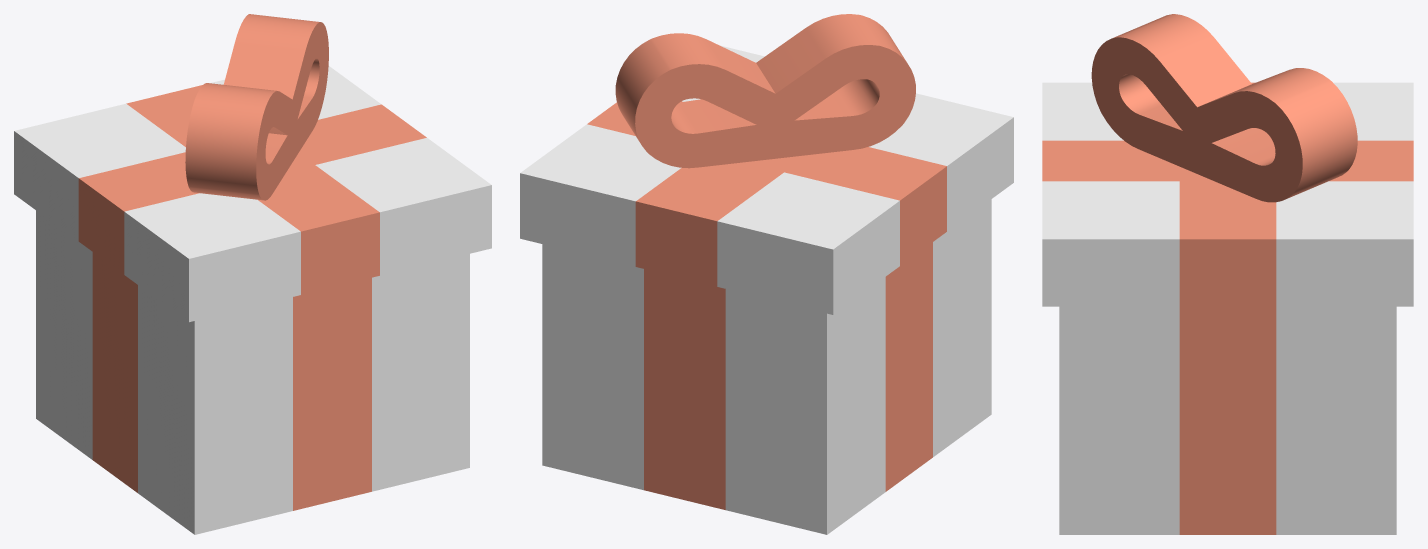
The model's file is gift.glb.
The picture shows the model from 3 angles, left to right: view 1: azimuth 30°, elevation 25°; view 2: azimuth 150°, elevation 25°; view 3: azimuth 270°, elevation 25°; orthographic projection. The views are drawn at different scales.
Visible parts, largest first — view 1: present, lid; view 2: present, lid; view 3: lid, present.
Boxes of the visible parts, bbox=[...] form: present: bbox=[36, 210, 469, 534]; lid: bbox=[14, 14, 491, 322]; present: bbox=[542, 199, 991, 534]; lid: bbox=[520, 14, 1013, 314]; lid: bbox=[1042, 14, 1413, 306]; present: bbox=[1059, 306, 1396, 534].
Bounding box in the file's own units: 0.3727 × 0.4535 × 0.3727.
